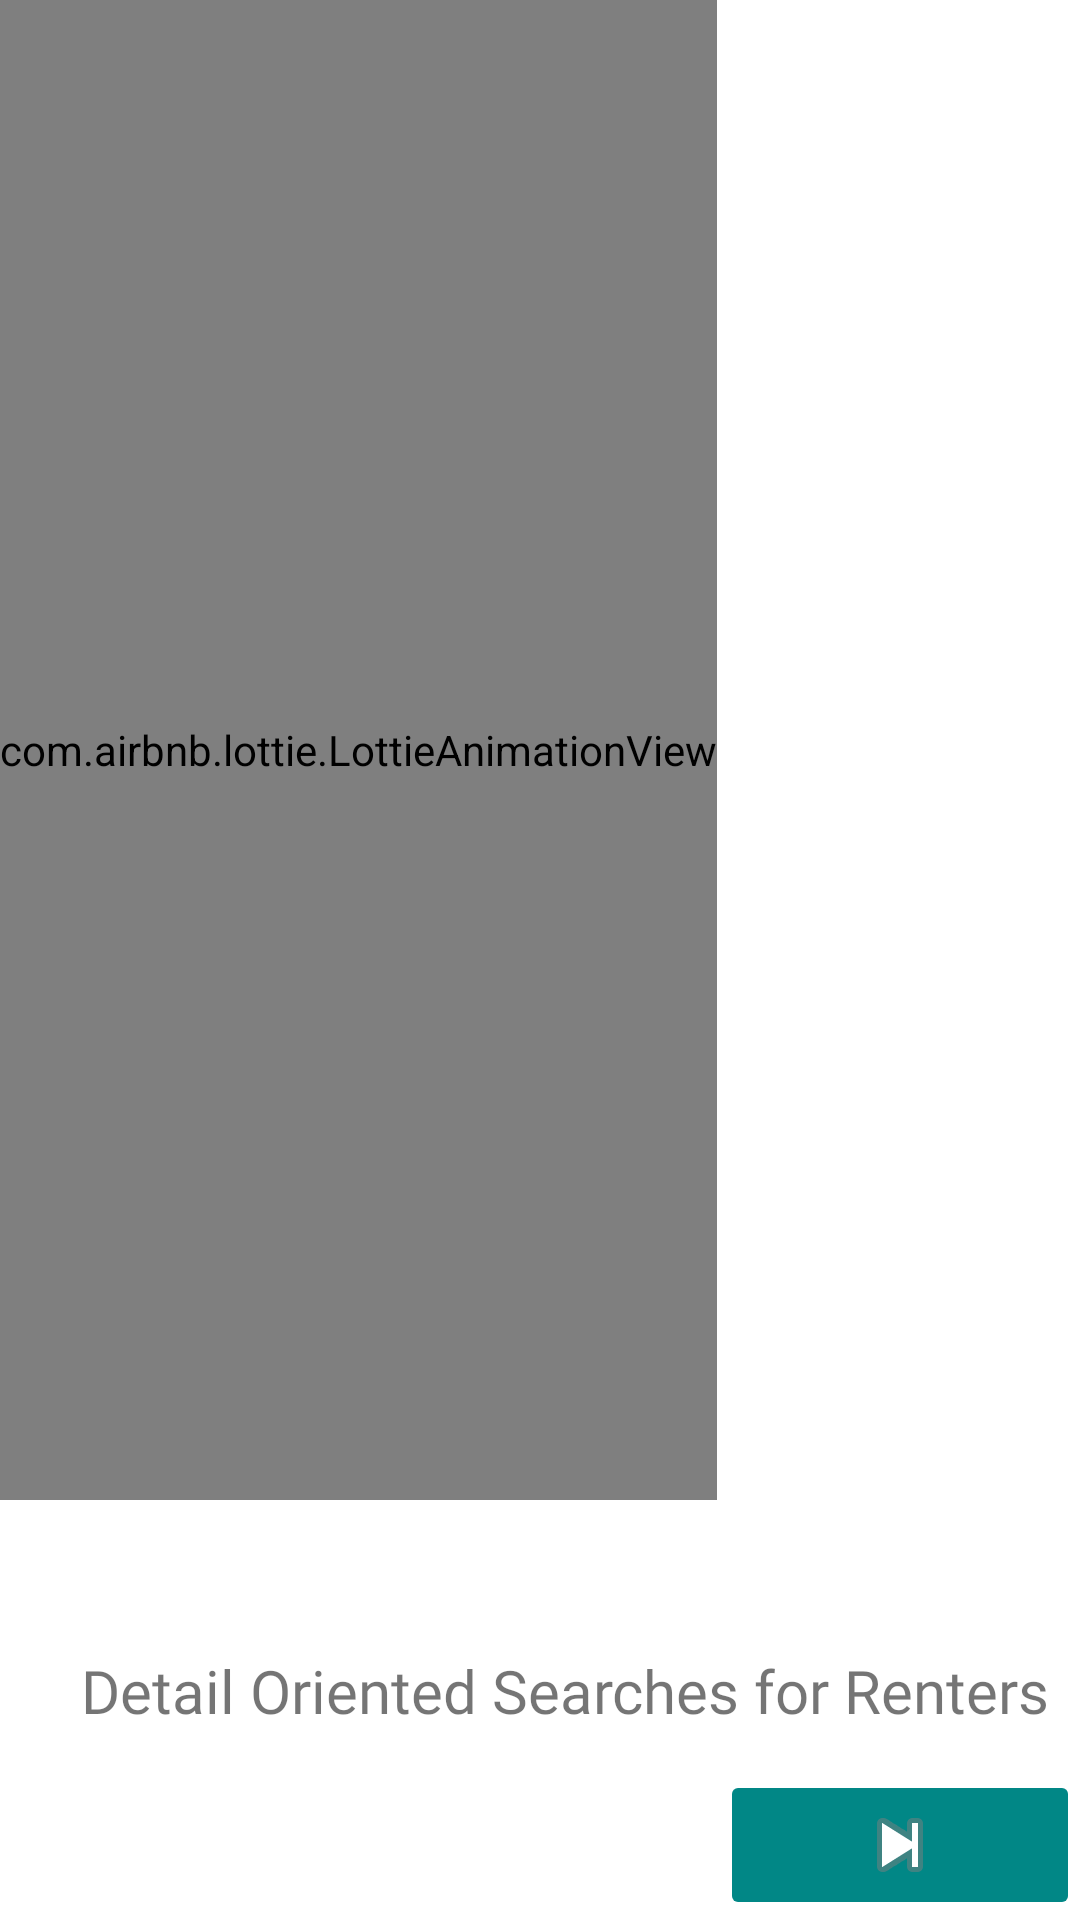

Icon bounding boxes for this 1080px x 1920px phone screenshot, format (x1, y1, x2, y2):
next: (732, 1788, 1068, 1902)
